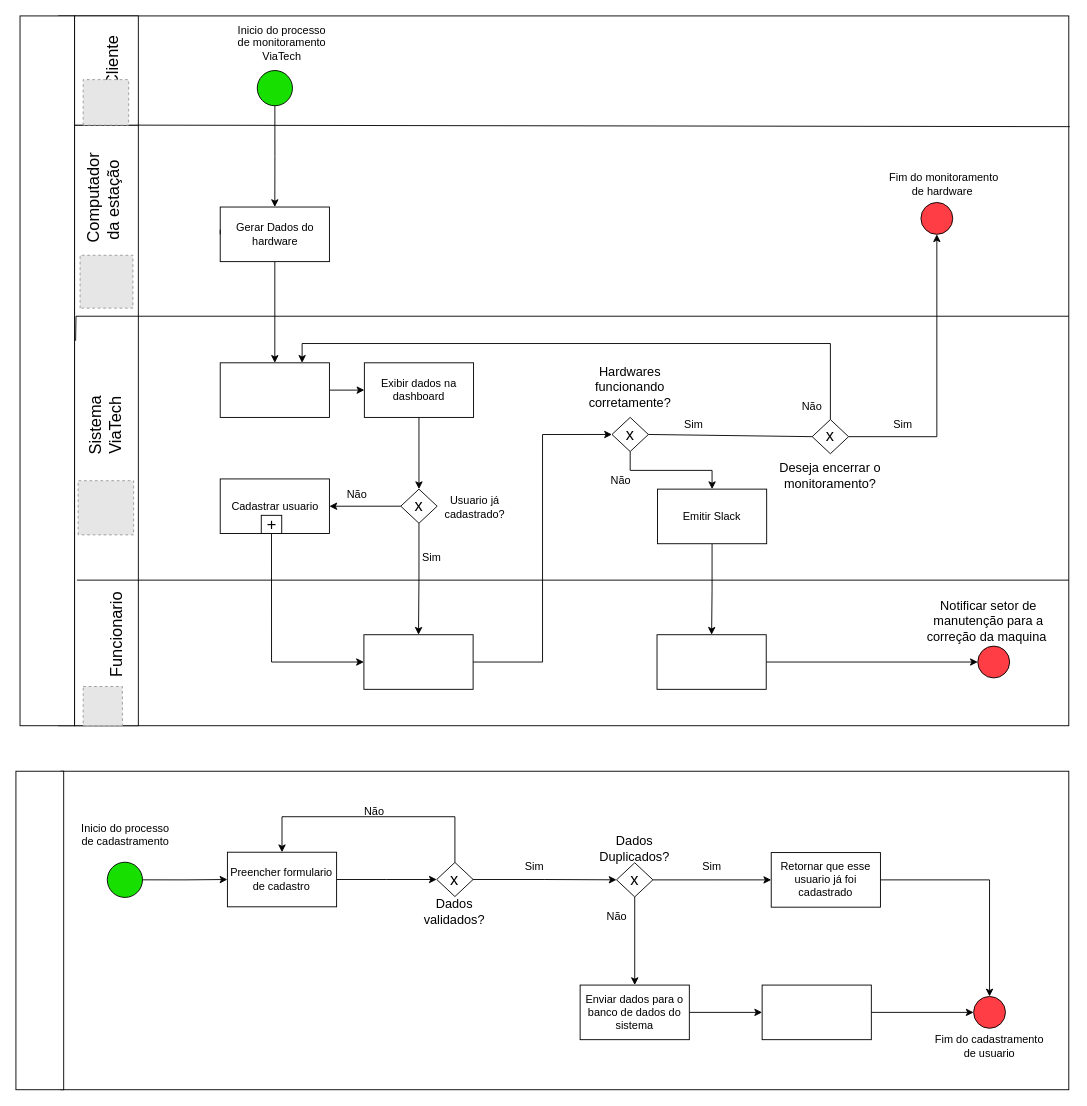
This 1087x1106 diagram has some shape labels left out. Grey dashed boxes stand in for pictures. The centre of each missing label's shape, as x and y in pixels:
"Cadastrar cliente" goes at point 39,930.
"Finalizar cadastro do usuario" goes at point 816,1012.
"Monitoramento de hardwares nos computadores da estação de metrôs" goes at point 47,370.
"Receber alerta" goes at point 711,661.
"Receber dados Da maquina" goes at point 274,389.
"Visualizar Dashboard" goes at point 418,661.
